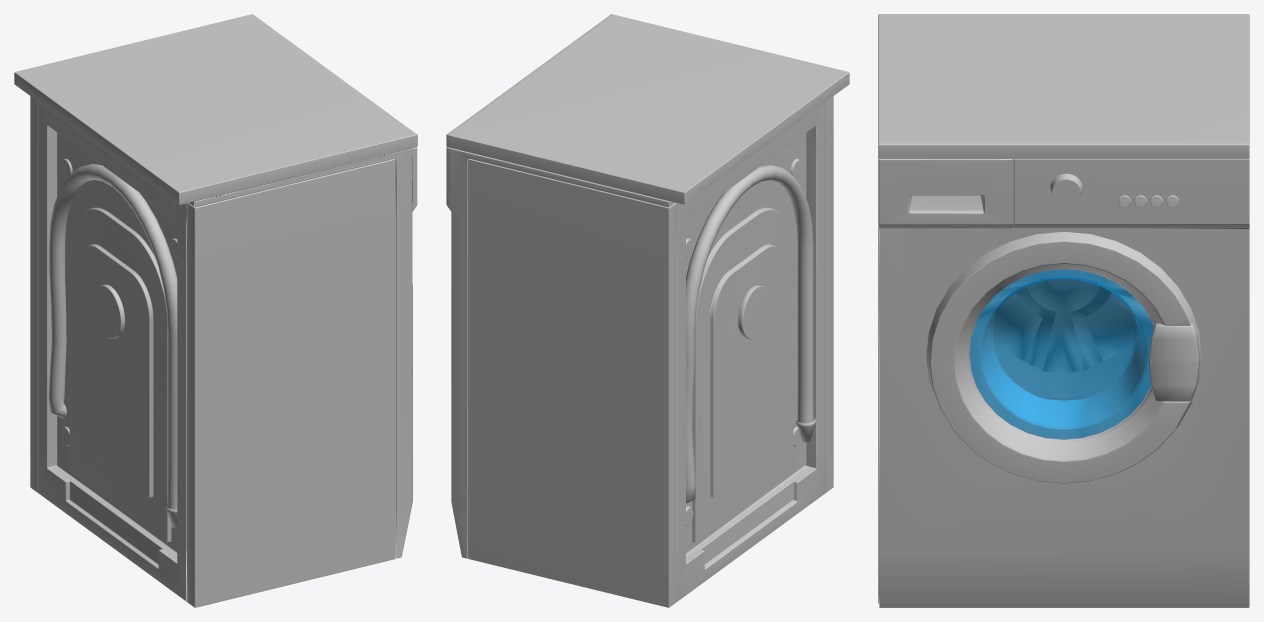
The picture shows the model from 3 angles, left to right: view 1: azimuth 30°, elevation 25°; view 2: azimuth 150°, elevation 25°; view 3: azimuth 270°, elevation 25°; orthographic projection. The views are drawn at different scales.
Parts seen in each view (by area): view 1: Cube.Slice.011, Cube.010, Cube.Slice.012, Circle.006; view 2: Cube.Slice.011, Cube.010, Cube.Slice.012, Circle.006; view 3: Cube.010, Cube.Slice.012, Circle.005, Circle.007, Cube.012, Cube.011, Circle.Slice.004, Cylinder.007, Cylinder.008.
Boxes of the visible parts, x1,y1,x2,y2 form: Cube.Slice.011: (30, 96, 395, 607); Cube.010: (38, 102, 412, 601); Cube.Slice.012: (14, 14, 417, 204); Circle.006: (48, 164, 177, 528); Cube.Slice.011: (468, 96, 833, 607); Cube.010: (446, 102, 825, 601); Cube.Slice.012: (446, 14, 849, 204); Circle.006: (686, 164, 815, 503); Cube.010: (879, 158, 1249, 607); Cube.Slice.012: (878, 14, 1249, 158); Circle.005: (926, 231, 1201, 483); Circle.007: (969, 269, 1153, 439); Cube.012: (969, 269, 1153, 439); Cube.011: (878, 158, 1013, 228); Circle.Slice.004: (1149, 323, 1200, 401); Cylinder.007: (1050, 173, 1082, 205); Cylinder.008: (1118, 195, 1178, 207).
Size of the model in its own units: 307 by 505 by 356.
